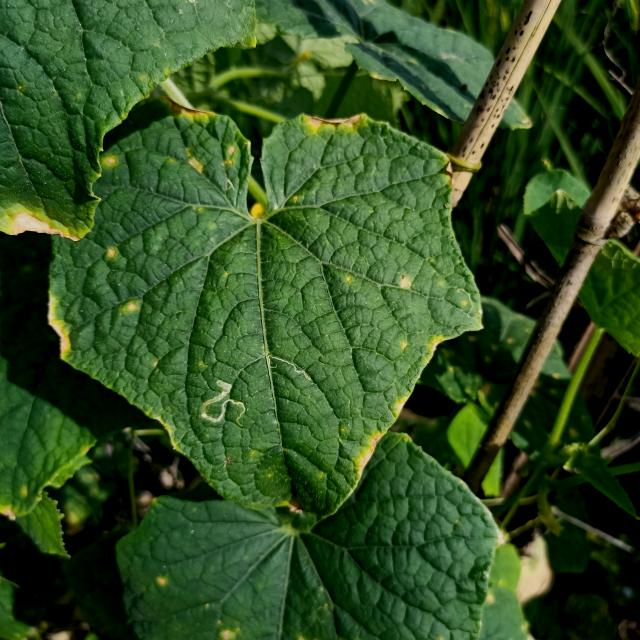disease_cucumber: (174, 110, 240, 180), (398, 331, 448, 358), (396, 274, 415, 292), (123, 300, 140, 315), (104, 247, 118, 260)
